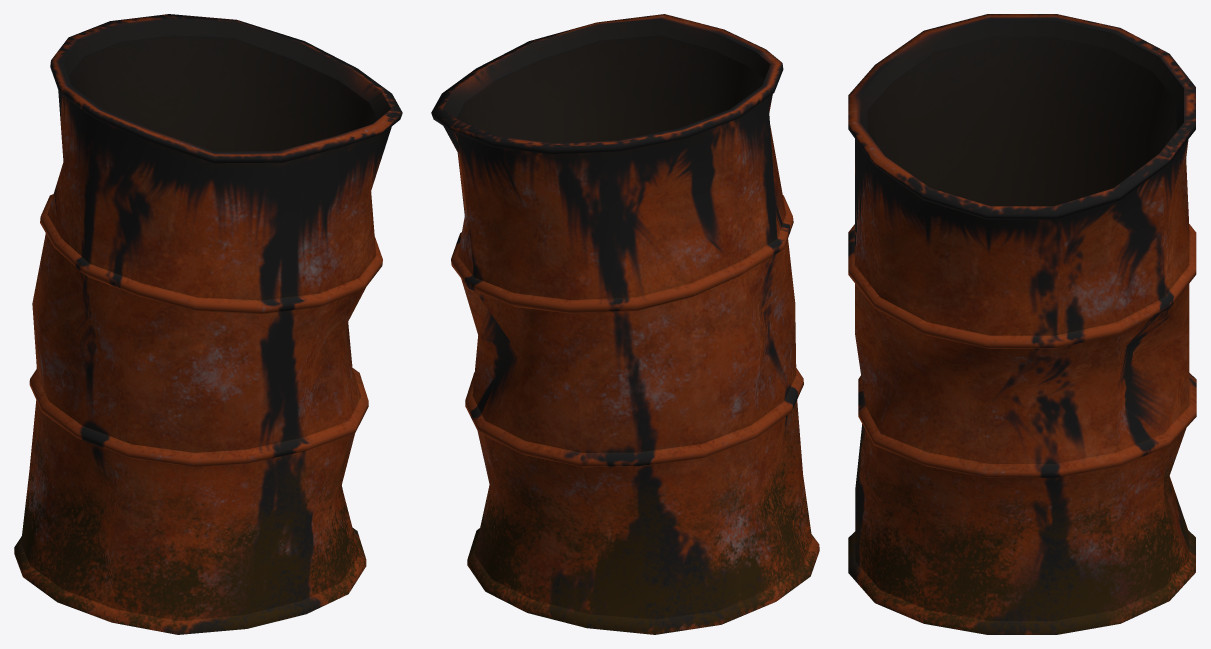
File: rusty_and_oil_stained_oil_barrel.glb
3 renders of one model, left to right at view 1: azimuth 30°, elevation 25°; view 2: azimuth 150°, elevation 25°; view 3: azimuth 270°, elevation 25°, orthographic.
Visible parts, largest first — view 1: Oil_Barell_GEO; view 2: Oil_Barell_GEO; view 3: Oil_Barell_GEO.
Part boxes in pixels (x1,y1,x2,y2): Oil_Barell_GEO: (14, 14, 402, 634); Oil_Barell_GEO: (431, 14, 819, 634); Oil_Barell_GEO: (848, 14, 1196, 634).
Bounding box in the file's own units: 0.7157 × 1 × 0.6422.
1 material, 1 textured.
